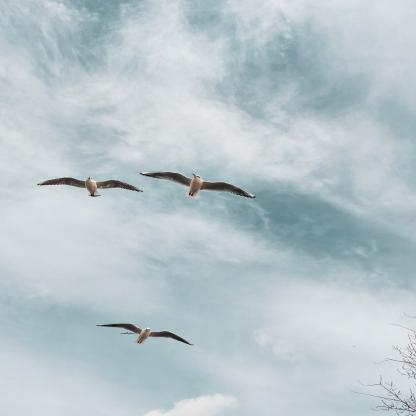bird: (137, 171, 257, 199), (36, 175, 143, 197), (96, 322, 195, 345)
